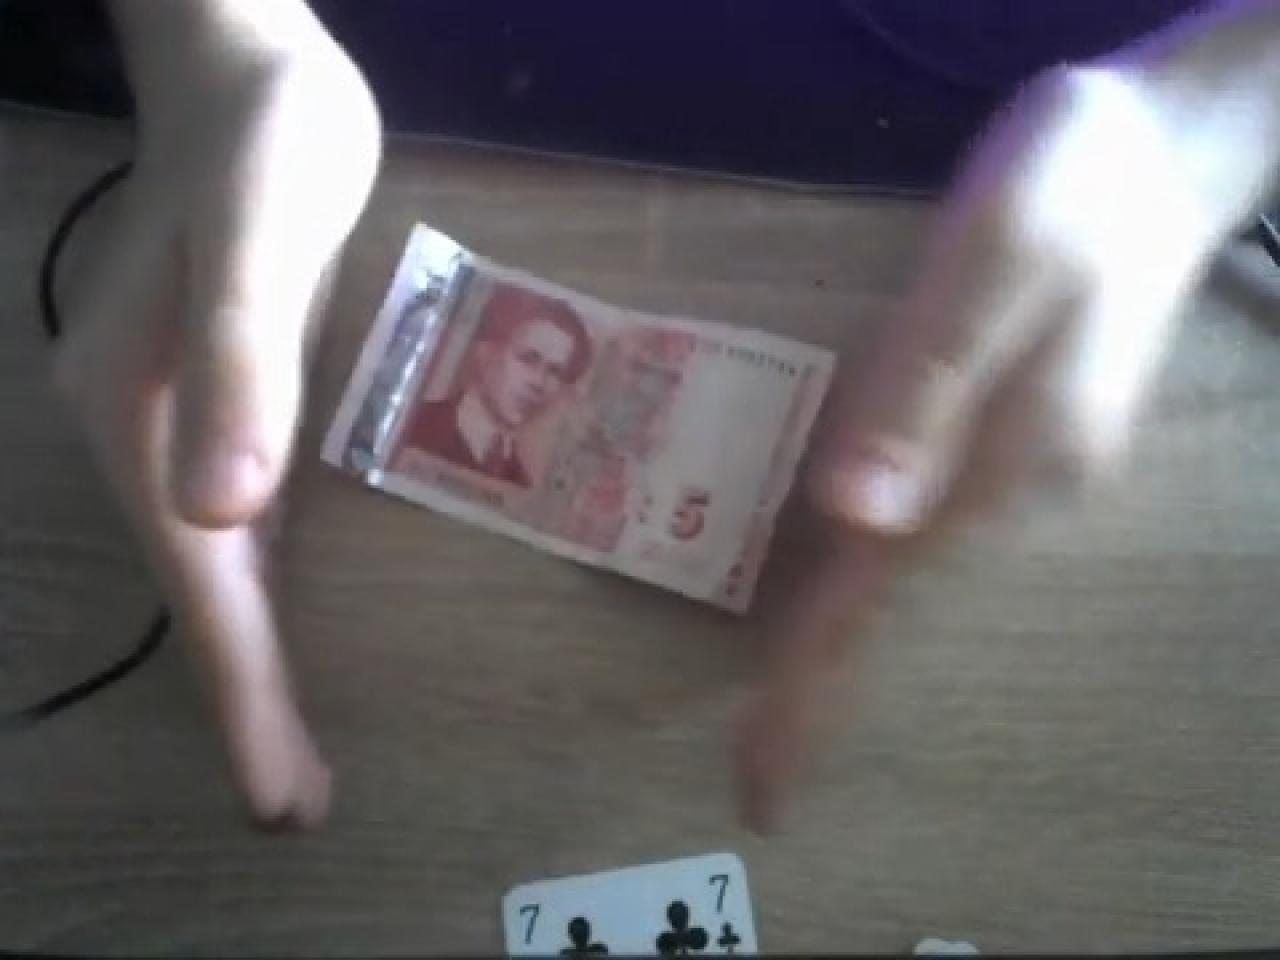5leva: (321, 224, 835, 619)
